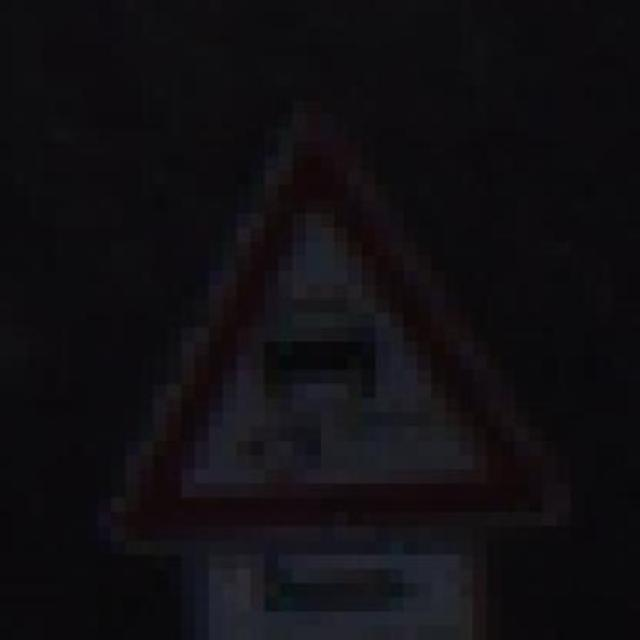Slippery Road Ahead: (79, 95, 581, 537)
